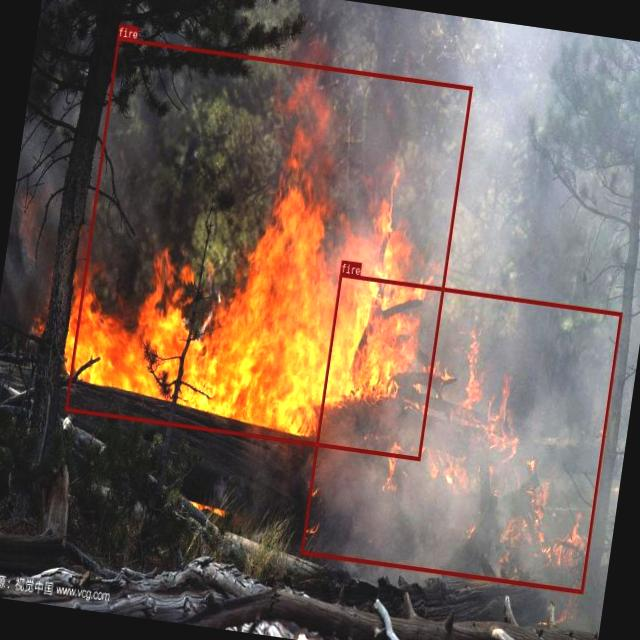fire: (65, 37, 472, 460), (300, 272, 622, 593)
